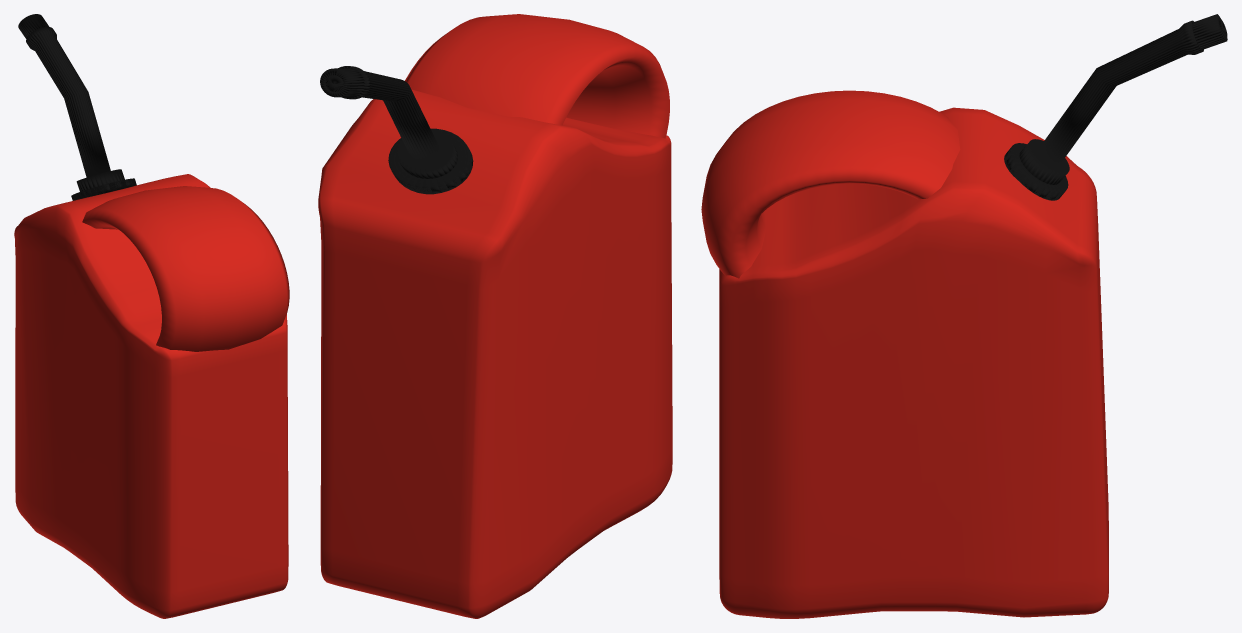
Rendered from gasoline.fbx.
The picture shows the model from 3 angles, left to right: view 1: azimuth 30°, elevation 25°; view 2: azimuth 150°, elevation 25°; view 3: azimuth 270°, elevation 25°; orthographic projection. The views are drawn at different scales.
Parts seen in each view (by area): view 1: body, handle, pump; view 2: body, handle, pump; view 3: body, handle, pump.
Boxes of the visible parts, x1,y1,x2,y2 form: body: [14, 174, 288, 618]; handle: [82, 186, 289, 351]; pump: [18, 14, 136, 200]; body: [318, 89, 672, 618]; handle: [405, 14, 669, 138]; pump: [320, 66, 473, 194]; body: [719, 107, 1108, 618]; handle: [701, 90, 960, 278]; pump: [1004, 14, 1227, 200].
Size of the model in its own units: 0.4817 by 1.3 by 1.1.
